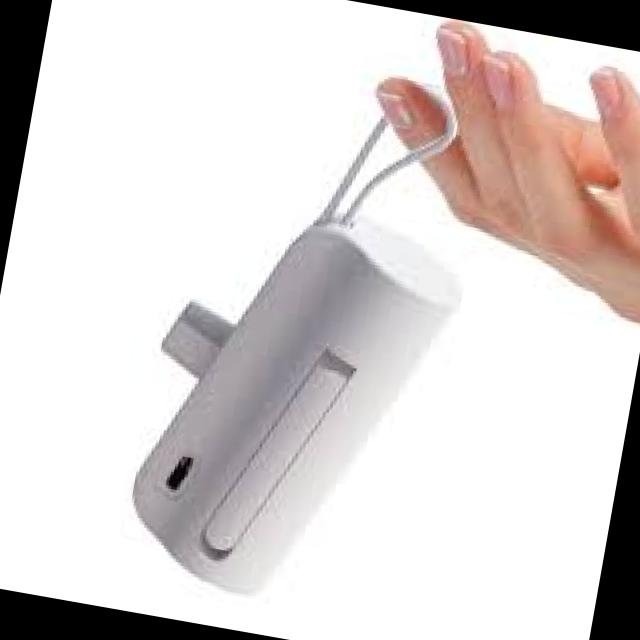portable-charger: (114, 181, 477, 629)
